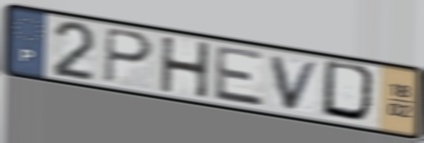2: (51, 20, 98, 84)
D: (319, 58, 382, 126)
E: (212, 43, 267, 109)
H: (159, 35, 213, 101)
P: (103, 25, 156, 86)
V: (268, 54, 324, 113)
